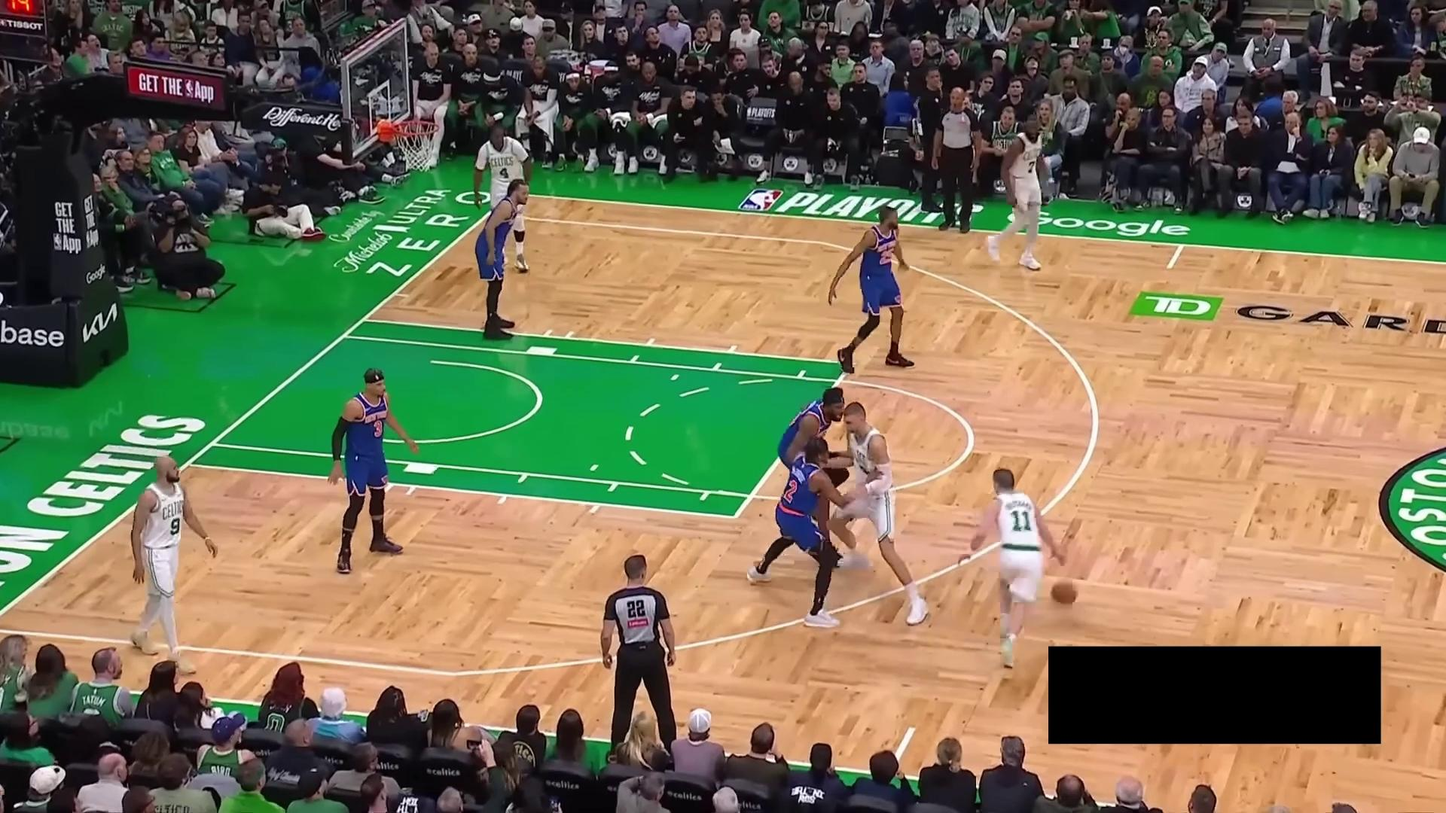ball: (1049, 577, 1077, 606)
number: (1012, 509, 1032, 532), (785, 477, 799, 504), (878, 246, 895, 265), (372, 417, 385, 439), (170, 514, 182, 536), (498, 165, 511, 181), (1027, 160, 1036, 174)
player: (835, 393, 937, 626), (745, 433, 860, 634), (125, 453, 222, 678), (326, 364, 421, 577), (827, 202, 914, 377), (774, 384, 853, 569), (984, 108, 1051, 275), (468, 174, 531, 342), (470, 118, 537, 273)
player-in-possession: (955, 466, 1077, 675)
referee: (598, 551, 681, 770), (934, 82, 985, 234)
rim: (389, 118, 444, 137)
